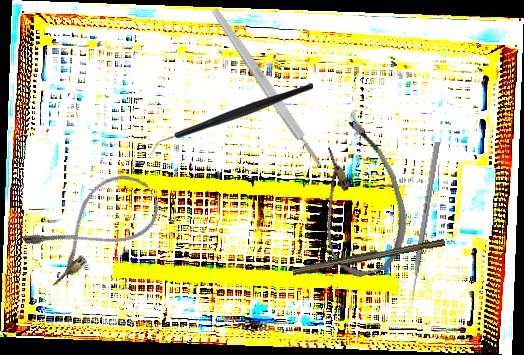Cannula: (296, 114, 421, 283), (19, 162, 169, 290)
Chopper: (150, 83, 313, 156)
Pusher: (407, 141, 441, 309)
Scalpel Handle: (209, 5, 325, 170), (291, 234, 446, 278)
